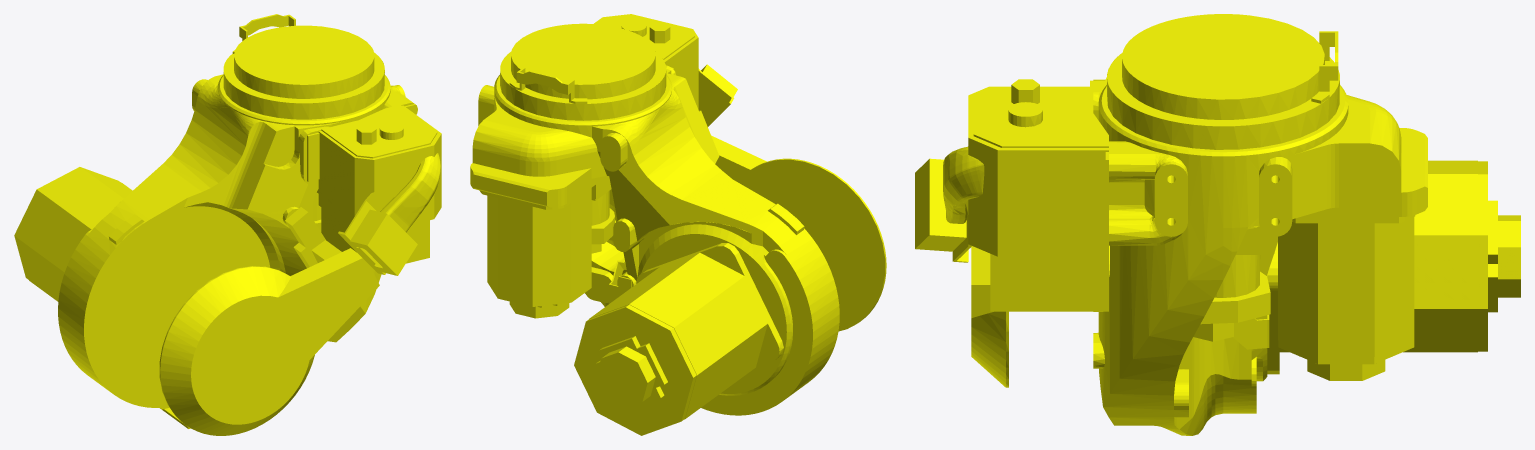
The picture shows the model from 3 angles, left to right: view 1: azimuth 30°, elevation 25°; view 2: azimuth 150°, elevation 25°; view 3: azimuth 270°, elevation 25°; orthographic projection. The views are drawn at different scales.
Parts seen in each view (by area): view 1: node; view 2: node; view 3: node.
Boxes of the visible parts, x1,y1,x2,y2 form: node: [14, 14, 441, 435]; node: [470, 14, 886, 435]; node: [915, 14, 1520, 435].
Size of the model in its own units: 501 by 487 by 582.
